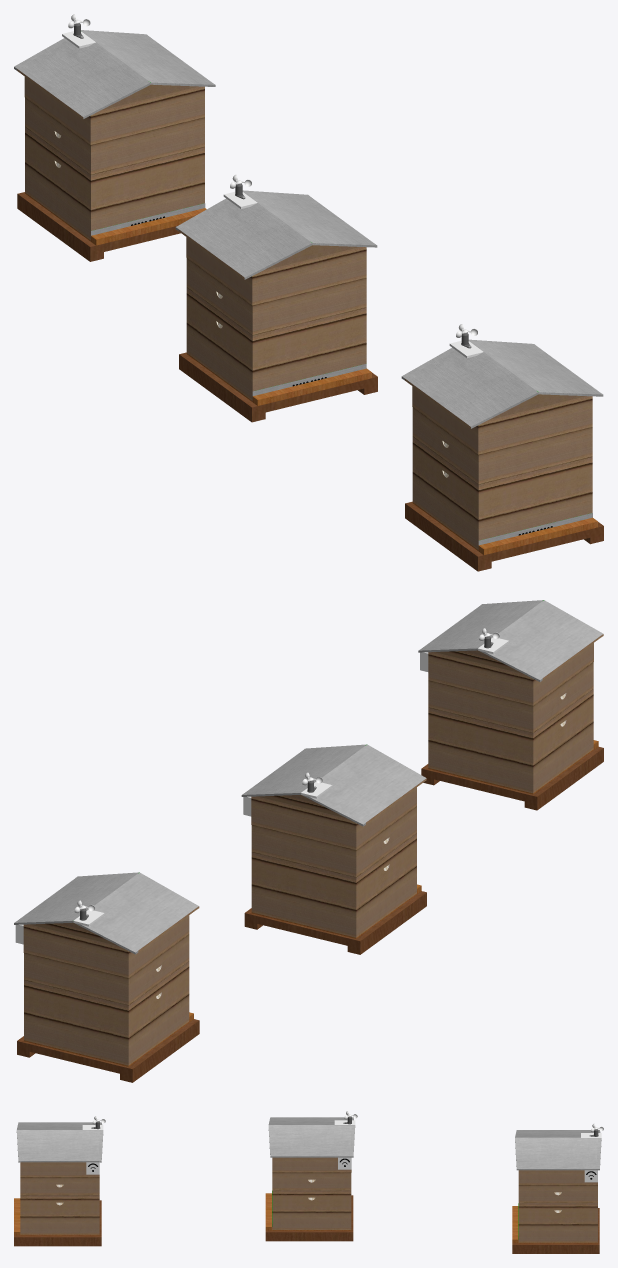
Rendered from bee-hive.glb.
3 views of the same model, one above another, from view 1: azimuth 30°, elevation 25°; view 2: azimuth 150°, elevation 25°; view 3: azimuth 270°, elevation 25° (orthographic). The views are drawn at different scales.
Visible parts, largest first — view 1: Material2.692, Material2.528, Material2.364, Material2.595, Material2.759, Material2.431, Material2.781, Material2.617, Material2.453, Material2.432, Material2.760, Material2.596 (+7 smaller); view 2: Material2.528, Material2.692, Material2.364, Material2.431, Material2.595, Material2.759, Material2.453, Material2.617, Material2.781, Material2.432, Material2.596, Material2.760 (+3 smaller); view 3: Material2.595, Material2.431, Material2.759, Material2.364, Material2.528, Material2.692, Material2.781, Material2.617, Material2.453, Material2.594, Material2.758, Material2.760 (+6 smaller).
Boxes of the visible parts, left/top/right/bottom form: Material2.692: left=412, top=437, right=592, bottom=549; Material2.528: left=186, top=287, right=366, bottom=400; Material2.364: left=25, top=127, right=204, bottom=240; Material2.595: left=175, top=190, right=377, bottom=275; Material2.759: left=401, top=339, right=603, bottom=424; Material2.431: left=14, top=30, right=215, bottom=114; Material2.781: left=412, top=407, right=592, bottom=484; Material2.617: left=186, top=258, right=366, bottom=335; Material2.453: left=25, top=97, right=204, bottom=174; Material2.432: left=17, top=69, right=204, bottom=145; Material2.760: left=405, top=379, right=592, bottom=454; Material2.596: left=178, top=229, right=366, bottom=305; Material2.528: left=251, top=833, right=416, bottom=937; Material2.692: left=428, top=689, right=593, bottom=793; Material2.364: left=24, top=961, right=189, bottom=1065; Material2.431: left=14, top=872, right=195, bottom=954; Material2.595: left=241, top=744, right=423, bottom=826; Material2.759: left=418, top=600, right=600, bottom=681; Material2.453: left=24, top=934, right=189, bottom=1005; Material2.617: left=251, top=806, right=416, bottom=877; Material2.781: left=428, top=662, right=593, bottom=732; Material2.432: left=23, top=906, right=199, bottom=978; Material2.596: left=251, top=778, right=426, bottom=850; Material2.760: left=428, top=634, right=603, bottom=705; Material2.595: left=268, top=1117, right=355, bottom=1157; Material2.431: left=515, top=1130, right=601, bottom=1170; Material2.759: left=16, top=1122, right=103, bottom=1162; Material2.364: left=518, top=1203, right=597, bottom=1242; Material2.528: left=272, top=1190, right=351, bottom=1229; Material2.692: left=20, top=1195, right=99, bottom=1234; Material2.781: left=20, top=1177, right=99, bottom=1195; Material2.617: left=272, top=1172, right=351, bottom=1190; Material2.453: left=518, top=1185, right=597, bottom=1202; Material2.594: left=265, top=1195, right=353, bottom=1241; Material2.758: left=14, top=1200, right=101, bottom=1246; Material2.760: left=20, top=1162, right=99, bottom=1177.
Bounding box in the file's own units: 36.35 × 35.31 × 176.
14 materials, 6 textured.
